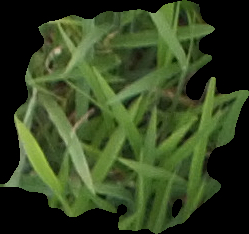grass: (1, 1, 248, 233)
